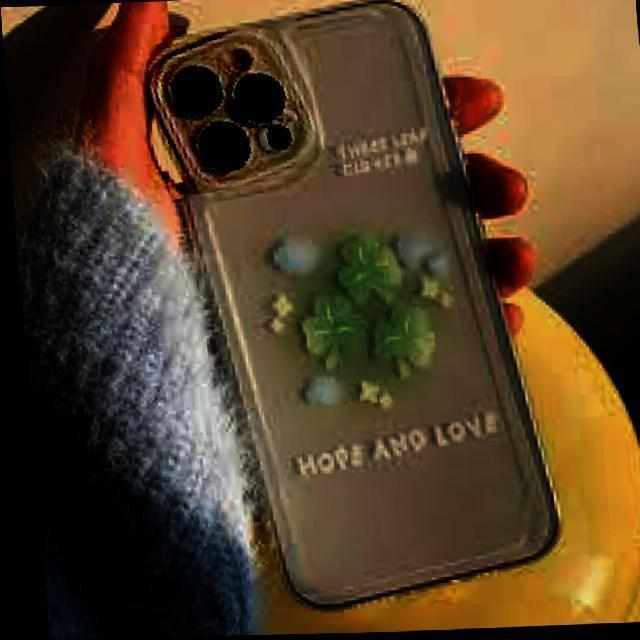phone: (149, 3, 566, 608)
